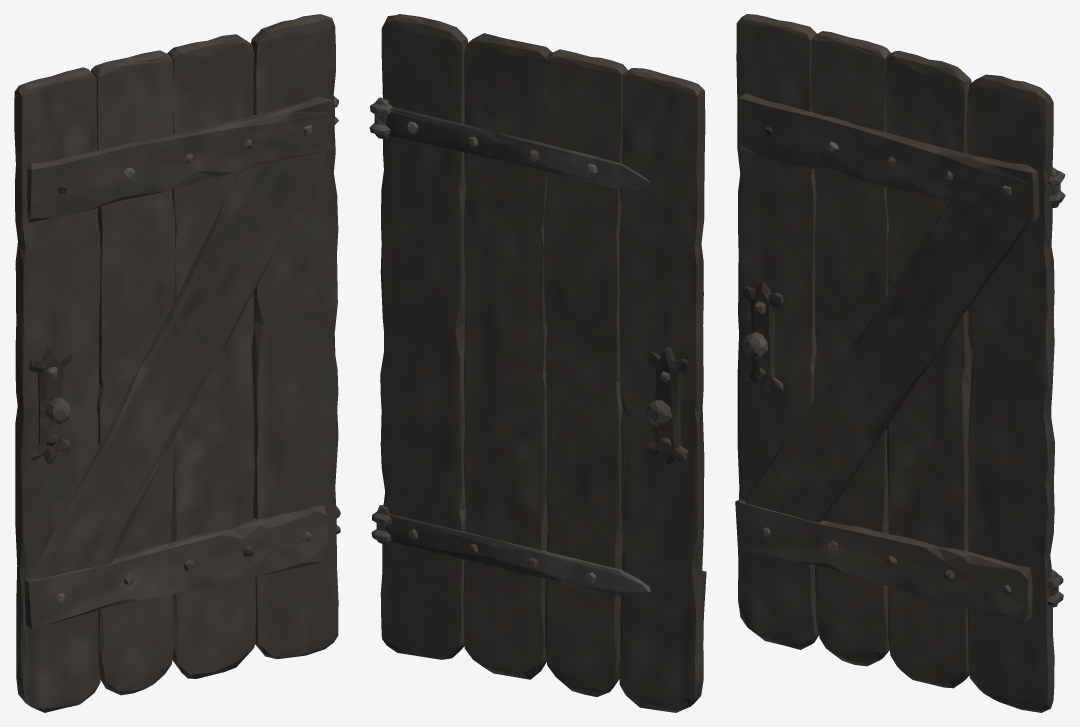
File: Wood_Door_01.fbx
The picture shows the model from 3 angles, left to right: view 1: azimuth 30°, elevation 25°; view 2: azimuth 150°, elevation 25°; view 3: azimuth 330°, elevation 25°; orthographic projection. The views are drawn at different scales.
Visible parts, largest first — view 1: Wood_Door_01, Wood_Door_01_Metall; view 2: Wood_Door_01, Wood_Door_01_Metall; view 3: Wood_Door_01, Wood_Door_01_Metall.
Boxes of the visible parts, x1=… form: Wood_Door_01: x1=14, y1=14, x2=338, y2=712; Wood_Door_01_Metall: x1=29, y1=96, x2=340, y2=603; Wood_Door_01: x1=380, y1=14, x2=706, y2=712; Wood_Door_01_Metall: x1=369, y1=97, x2=688, y2=597; Wood_Door_01: x1=735, y1=14, x2=1054, y2=712; Wood_Door_01_Metall: x1=741, y1=126, x2=1065, y2=607.
Size of the model in its own units: 115 by 218 by 21.62.
